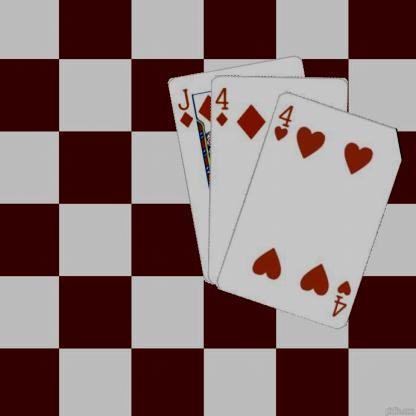4D: (212, 84, 229, 127)
4H: (271, 102, 295, 142), (329, 277, 352, 318)
JD: (175, 86, 194, 129)
